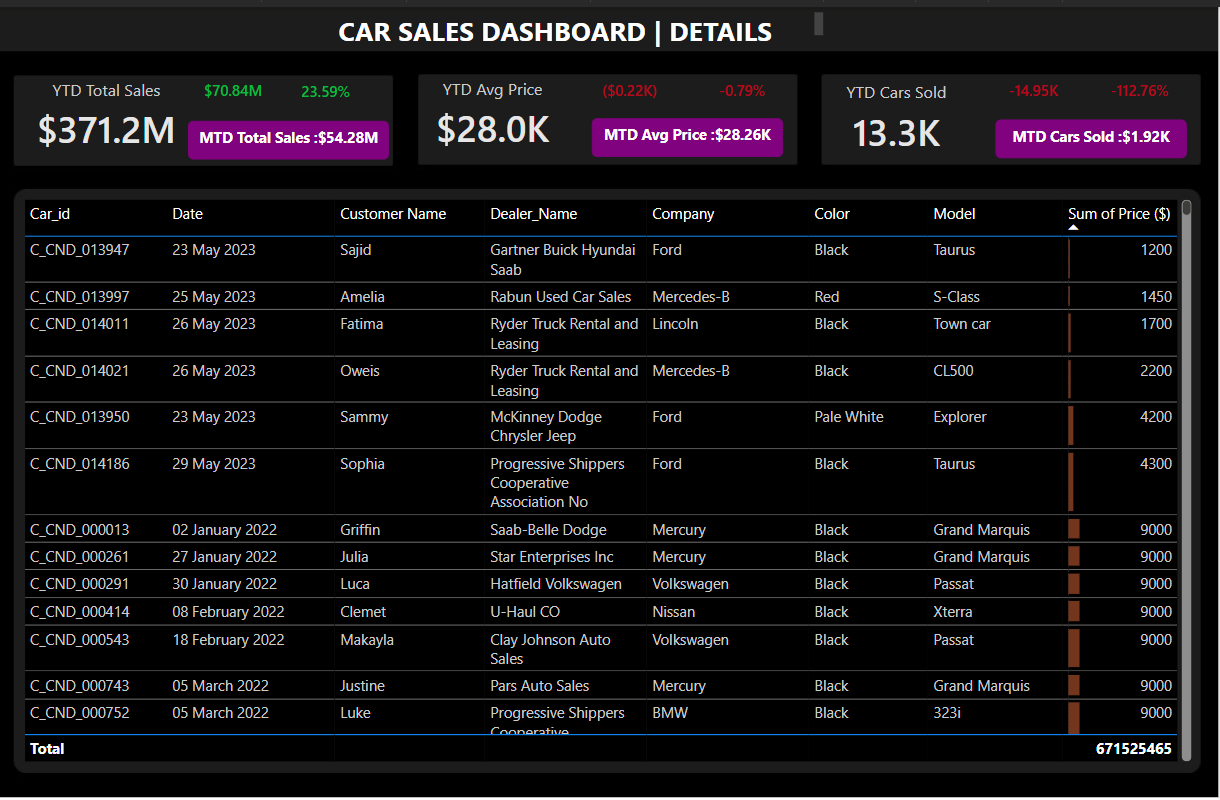

The dashboard page shown, as its layout file describes it:
{"tool":"powerbi","page":{"name":"Details","canvas":[1280,720],"ordinal":1},"visuals":[{"type":"card","title":"YTD Total Sales","fields":{"Values":["car_data.YTD total sales"]},"box":[190.7,65.1,160.5,73.3],"z":0},{"type":"card","fields":{"Values":["car_data.Sales Difference"]},"box":[351.2,65.1,68.6,27.9],"z":1000},{"type":"card","fields":{"Values":["car_data.YOY Sales Growth"]},"box":[436,54.7,68.6,48.8],"z":2000},{"type":"card","fields":{"Values":["car_data.MTD KPI"]},"box":[345.3,103.5,182.6,34.9],"z":3000},{"type":"card","title":"YTD Avg Price","fields":{"Values":["car_data.YTD Avg price"]},"box":[540.7,64,160.5,73.3],"z":4000},{"type":"card","fields":{"Values":["car_data.Avg Price Diff"]},"box":[711.6,65.1,68.6,27.9],"z":5000},{"type":"card","fields":{"Values":["car_data.YOY Avg Price Growth"]},"box":[812.8,65.1,68.6,27.9],"z":6000},{"type":"card","fields":{"Values":["car_data.MTD Avg Price KPI"]},"box":[711.6,101.2,173.3,34.9],"z":7000},{"type":"card","title":"YTD Cars Sold","fields":{"Values":["car_data.YTD Cars Sold"]},"box":[907,67.4,160.5,73.3],"z":8000},{"type":"card","fields":{"Values":["car_data.Cars Sold Diff"]},"box":[1077.9,65.1,68.6,27.9],"z":9000},{"type":"card","fields":{"Values":["car_data.YOY Car Sold Growth"]},"box":[1174.4,65.1,68.6,27.9],"z":10000},{"type":"card","fields":{"Values":["car_data.MTD Cars Sold KPI"]},"box":[1077.9,102.3,173.3,34.9],"z":11000},{"type":"textbox","box":[476.7,0,450,41.9],"z":12000},{"type":"slicer","fields":{"Values":["car_data.Body Style"]},"box":[17.4,360.5,147.7,73.3],"z":13000},{"type":"slicer","fields":{"Values":["car_data.Dealer_Region"]},"box":[17.4,461.6,147.7,73.3],"z":14000},{"type":"textbox","box":[17.4,322.1,147.7,30.2],"z":15000},{"type":"slicer","fields":{"Values":["car_data.Engine"]},"box":[18.6,567.4,147.7,73.3],"z":16000},{"type":"tableEx","fields":{"Values":["car_data.Car_id","car_data.Date","car_data.Customer Name","car_data.Dealer_Name","car_data.Company","car_data.Color","car_data.Model","Sum(car_data.Price ($))"]},"box":[190.7,169.8,1069.8,519.8],"z":17000},{"type":"pageNavigator","box":[18.6,159.3,145.3,107],"z":17001}]}

Visuals, with their boxes on the page's 1280x720 design canvas (x1, y1, x2, y2). These are canvas units, not pixel positions in the 1220x800 screenshot, which may show the page scaled, cropped or inside an application window:
"YTD Total Sales" card: bbox=[191, 65, 351, 138]
card - car_data.Sales Difference: bbox=[351, 65, 420, 93]
card - car_data.YOY Sales Growth: bbox=[436, 55, 505, 104]
card - car_data.MTD KPI: bbox=[345, 104, 528, 138]
"YTD Avg Price" card: bbox=[541, 64, 701, 137]
card - car_data.Avg Price Diff: bbox=[712, 65, 780, 93]
card - car_data.YOY Avg Price Growth: bbox=[813, 65, 881, 93]
card - car_data.MTD Avg Price KPI: bbox=[712, 101, 885, 136]
"YTD Cars Sold" card: bbox=[907, 67, 1068, 141]
card - car_data.Cars Sold Diff: bbox=[1078, 65, 1146, 93]
card - car_data.YOY Car Sold Growth: bbox=[1174, 65, 1243, 93]
card - car_data.MTD Cars Sold KPI: bbox=[1078, 102, 1251, 137]
textbox: bbox=[477, 0, 927, 42]
slicer - car_data.Body Style: bbox=[17, 360, 165, 434]
slicer - car_data.Dealer_Region: bbox=[17, 462, 165, 535]
textbox: bbox=[17, 322, 165, 352]
slicer - car_data.Engine: bbox=[19, 567, 166, 641]
tableEx - car_data.Car_id x car_data.Date: bbox=[191, 170, 1260, 690]
pageNavigator: bbox=[19, 159, 164, 266]
